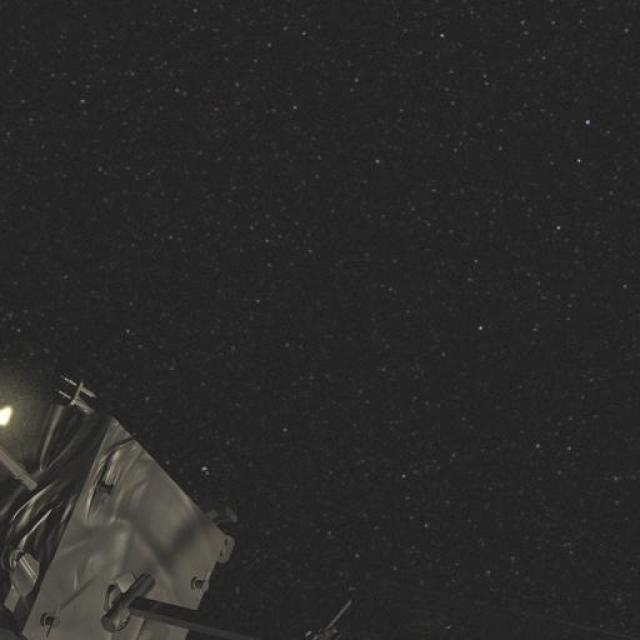smart_1: (0, 355, 245, 639)
